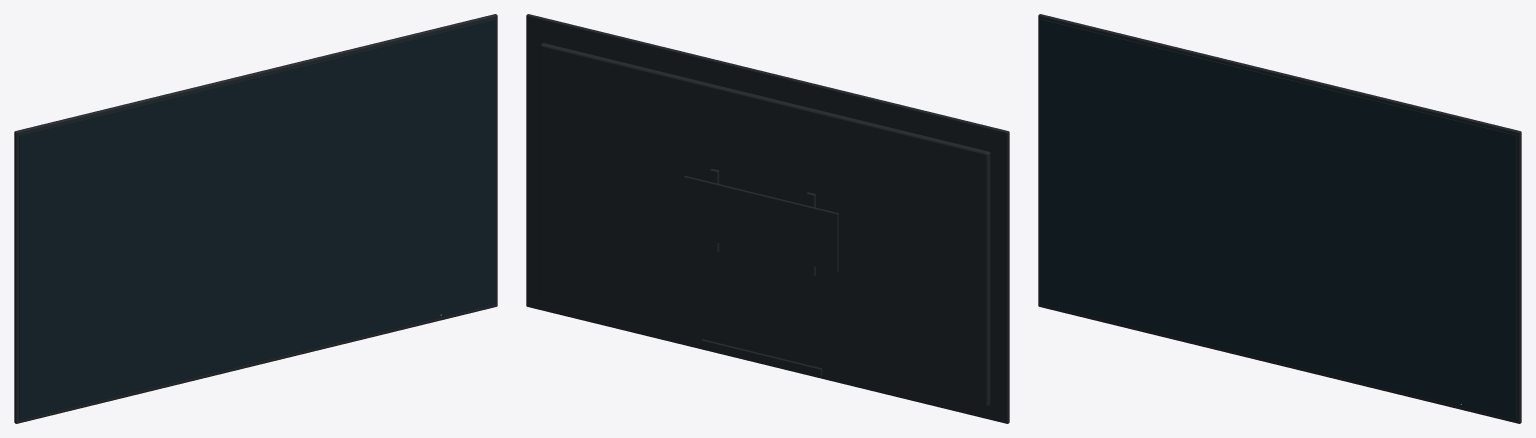
File: television-3.glb
3 renders of one model, left to right at view 1: azimuth 30°, elevation 25°; view 2: azimuth 150°, elevation 25°; view 3: azimuth 330°, elevation 25°, orthographic.
Parts seen in each view (by area): view 1: television:3:archviz; view 2: television:3:archviz; view 3: television:3:archviz.
Boxes of the visible parts, x1,y1,x2,y2 form: television:3:archviz: (14,14,497,423); television:3:archviz: (526,14,1009,423); television:3:archviz: (1038,14,1521,423).
Size of the model in its own units: 1.9 by 1.1 by 0.0647.
